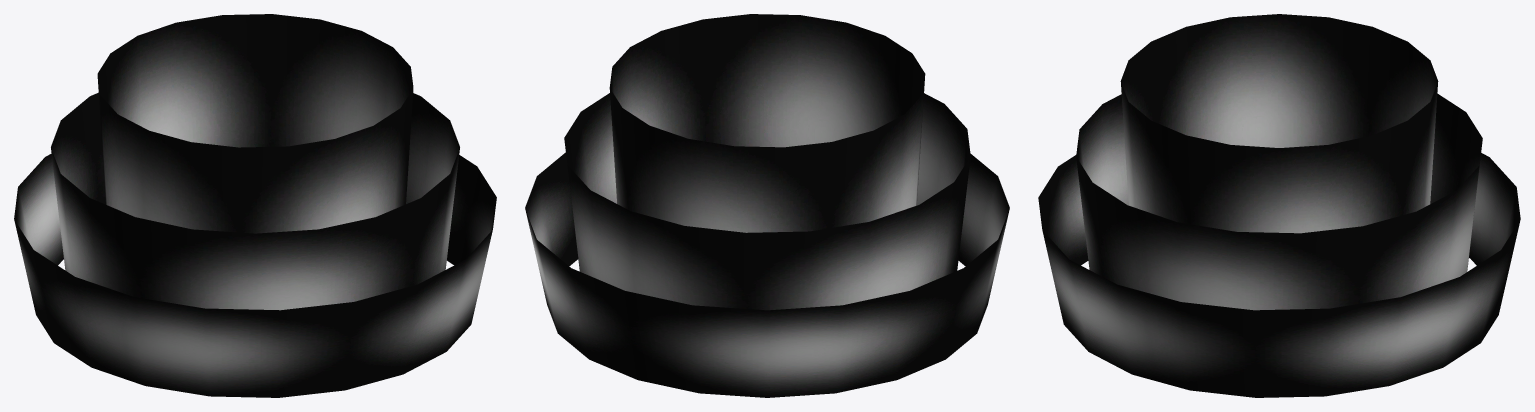
Rendered from vfx_kurp_1087.dae.
The picture shows the model from 3 angles, left to right: view 1: azimuth 30°, elevation 25°; view 2: azimuth 150°, elevation 25°; view 3: azimuth 270°, elevation 25°; orthographic projection.
Visible parts, largest first — view 1: vfx_kurp_1087; view 2: vfx_kurp_1087; view 3: vfx_kurp_1087.
Part boxes in pixels (x1,y1,x2,y2): vfx_kurp_1087: (14, 14, 496, 397); vfx_kurp_1087: (525, 14, 1009, 397); vfx_kurp_1087: (1038, 14, 1520, 397).
Bounding box in the file's own units: 10.47 × 10.47 × 5.37.
1 material, 1 textured.
